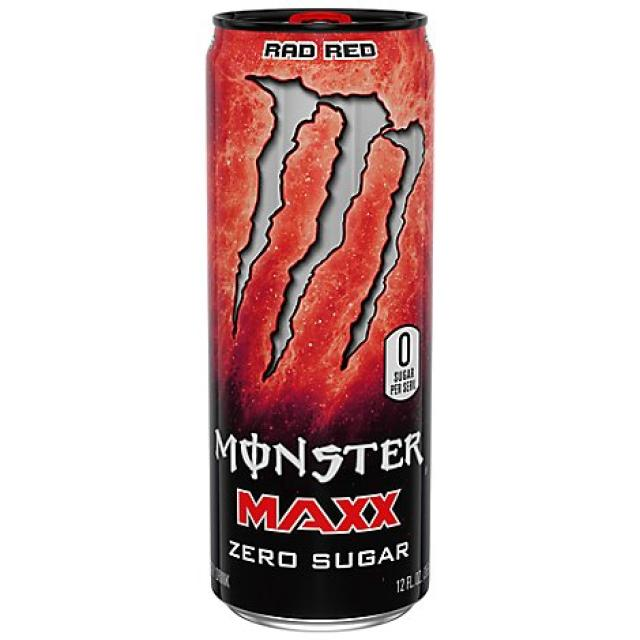Cans: (202, 0, 437, 633)
